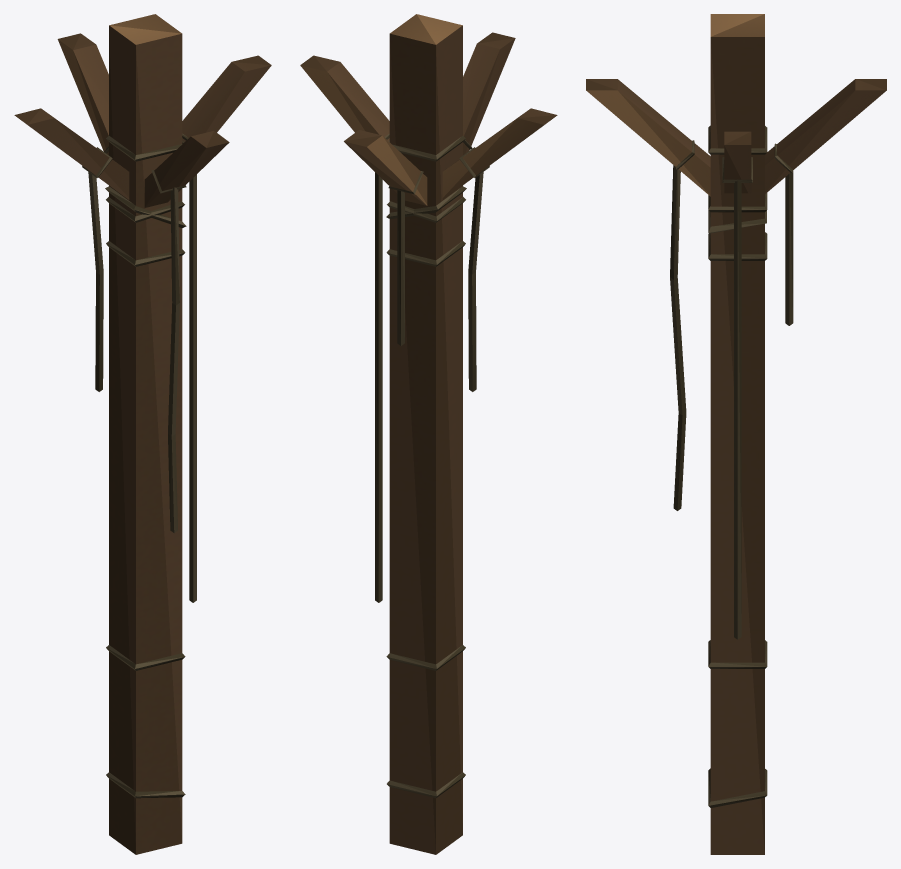
The model's file is Wood_3A_Lod0.fbx.
3 renders of one model, left to right at view 1: azimuth 30°, elevation 25°; view 2: azimuth 150°, elevation 25°; view 3: azimuth 270°, elevation 25°, orthographic.
Parts seen in each view (by area): view 1: polySurface1094; view 2: polySurface1094; view 3: polySurface1094.
Part boxes in pixels (box(x1,y1,x2,y2)): polySurface1094: box(14, 14, 271, 854); polySurface1094: box(300, 14, 557, 854); polySurface1094: box(586, 14, 886, 854).
Bounding box in the file's own units: 316 × 1000 × 333.
Materials: 1 (1 with a texture image).
